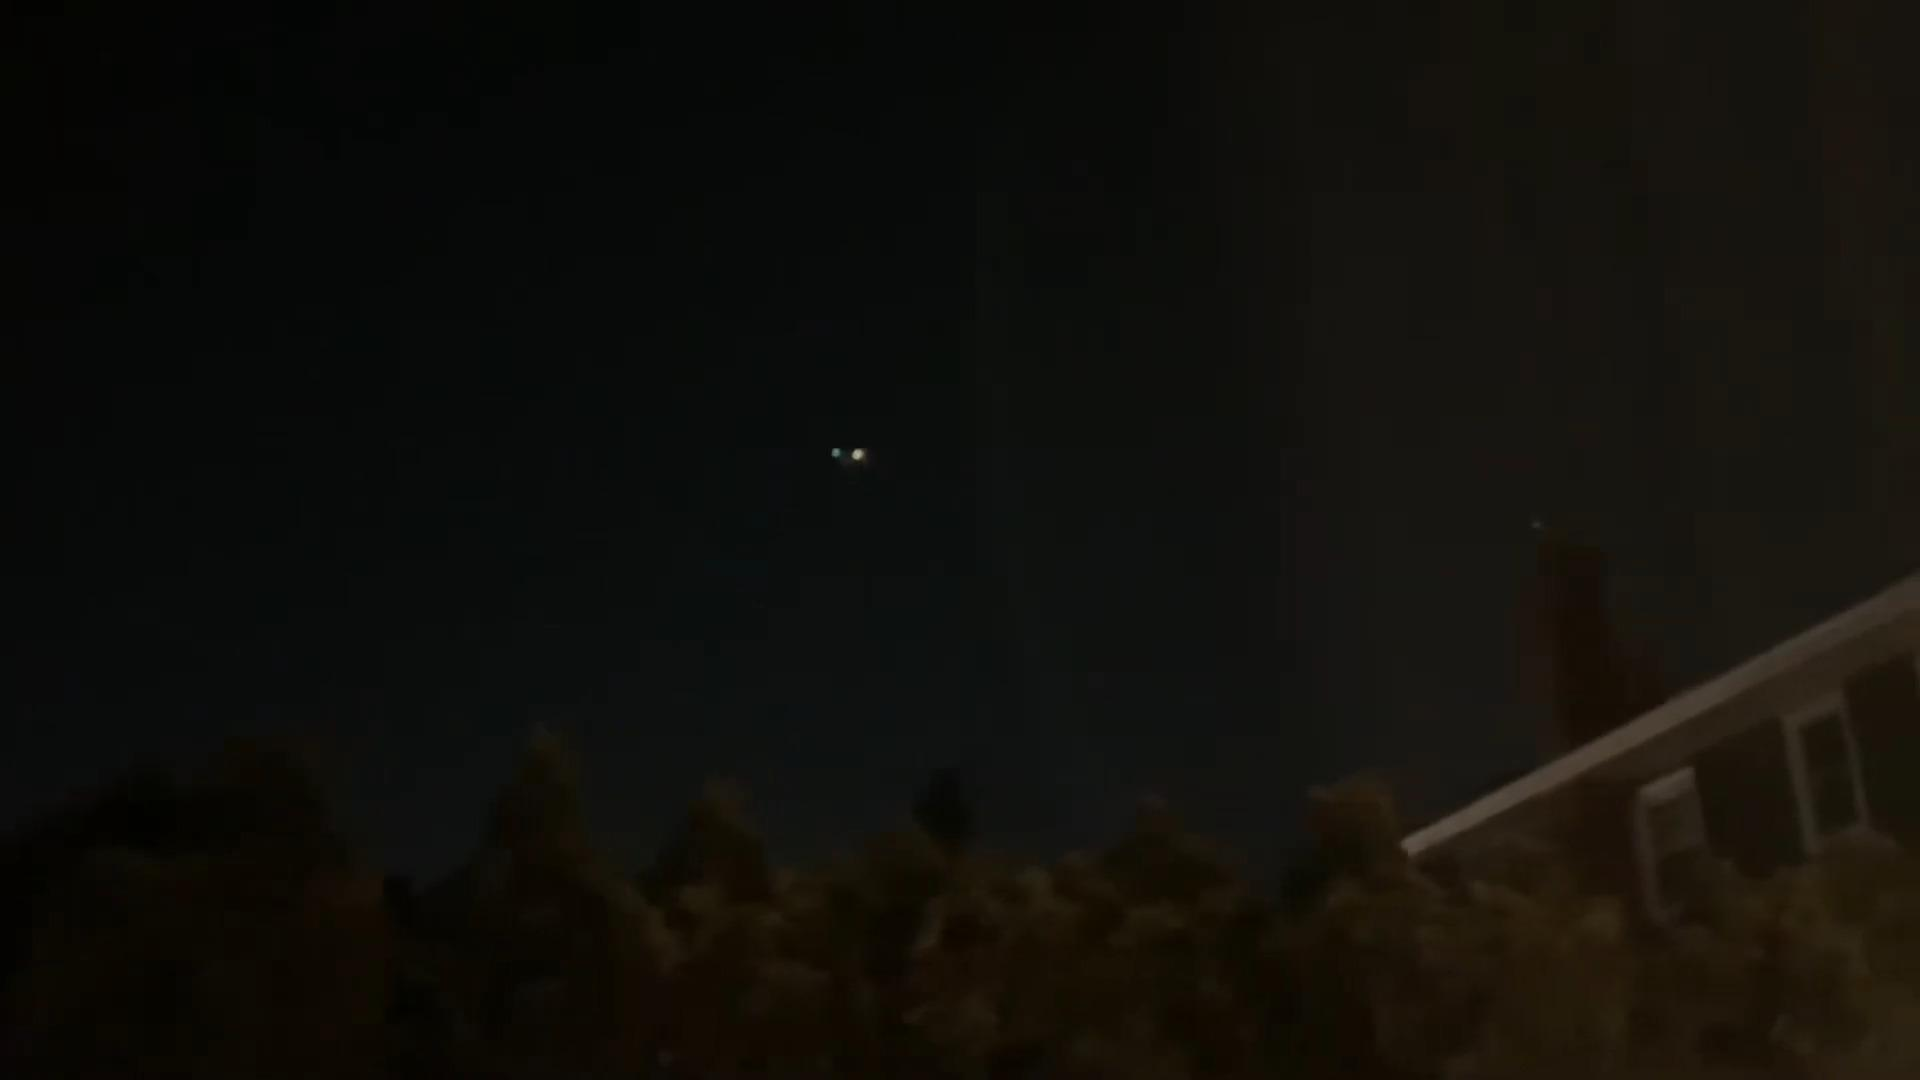Plane: (793, 433, 910, 473)
